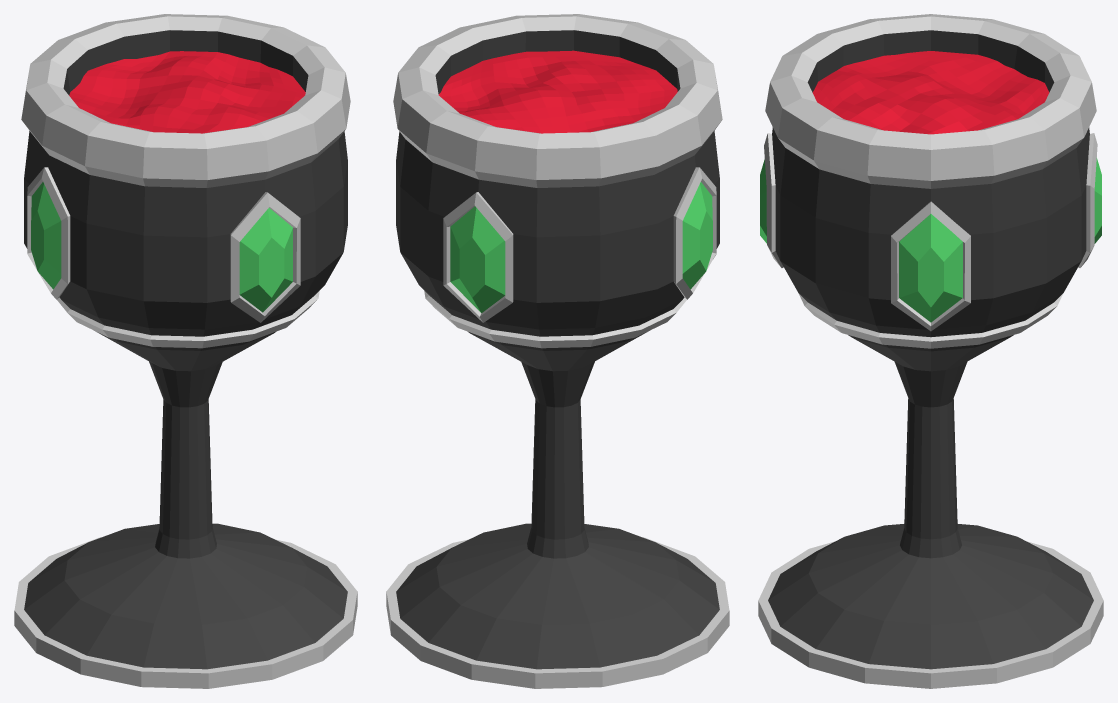
Rendered from heal chalice.fbx.
3 renders of one model, left to right at view 1: azimuth 30°, elevation 25°; view 2: azimuth 150°, elevation 25°; view 3: azimuth 270°, elevation 25°, orthographic.
Parts seen in each view (by area): view 1: Cylinder; view 2: Cylinder; view 3: Cylinder.
Part boxes in pixels (x1,y1,x2,y2): Cylinder: (14, 14, 357, 688); Cylinder: (386, 14, 729, 688); Cylinder: (758, 14, 1103, 688).
Bounding box in the file's own units: 212 × 366 × 212.
